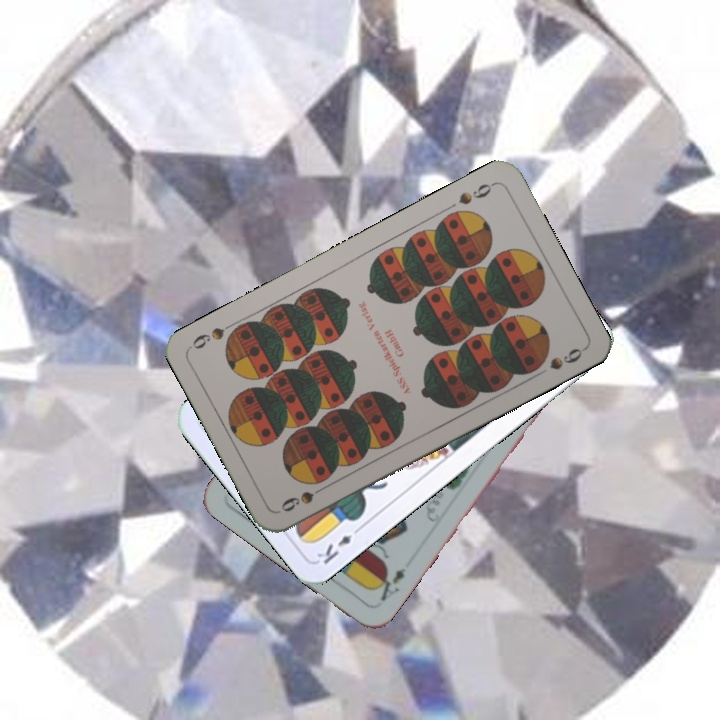EA: (376, 564, 409, 604)
EK: (312, 521, 365, 567)
S9: (276, 480, 331, 515), (454, 178, 498, 208)
